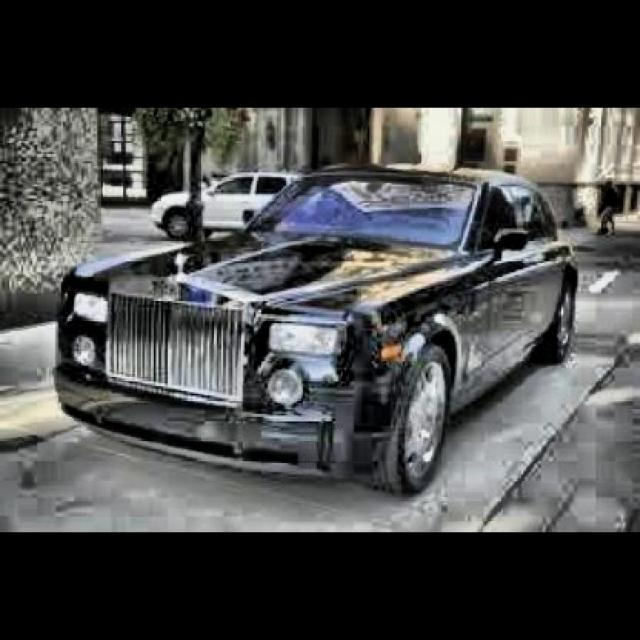black: (42, 160, 566, 466)
